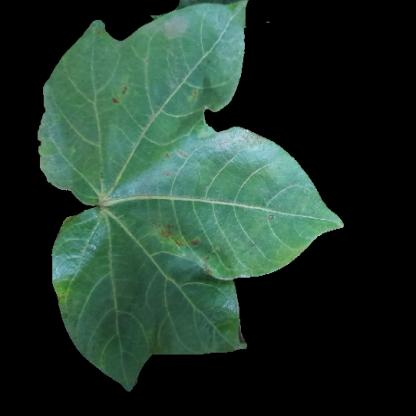curl_stage1: (161, 219, 209, 267), (57, 277, 82, 322)
healthy: (72, 53, 194, 195), (80, 236, 159, 366), (213, 147, 293, 258), (193, 7, 243, 87), (161, 267, 212, 341), (49, 88, 70, 176)
